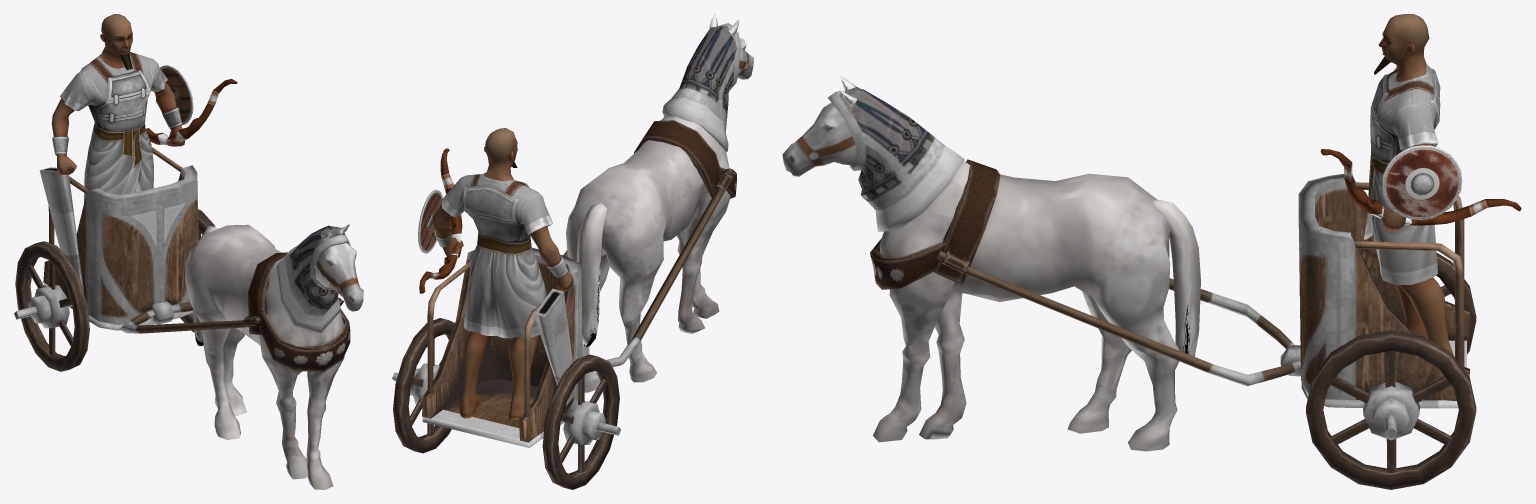
File: 62-chariotarcher.glb
3 renders of one model, left to right at view 1: azimuth 30°, elevation 25°; view 2: azimuth 150°, elevation 25°; view 3: azimuth 270°, elevation 25°, orthographic. The views are drawn at different scales.
Bounding box in the file's own units: 1.72 × 2.5 × 3.93.
Materials: 5 (5 with a texture image).
